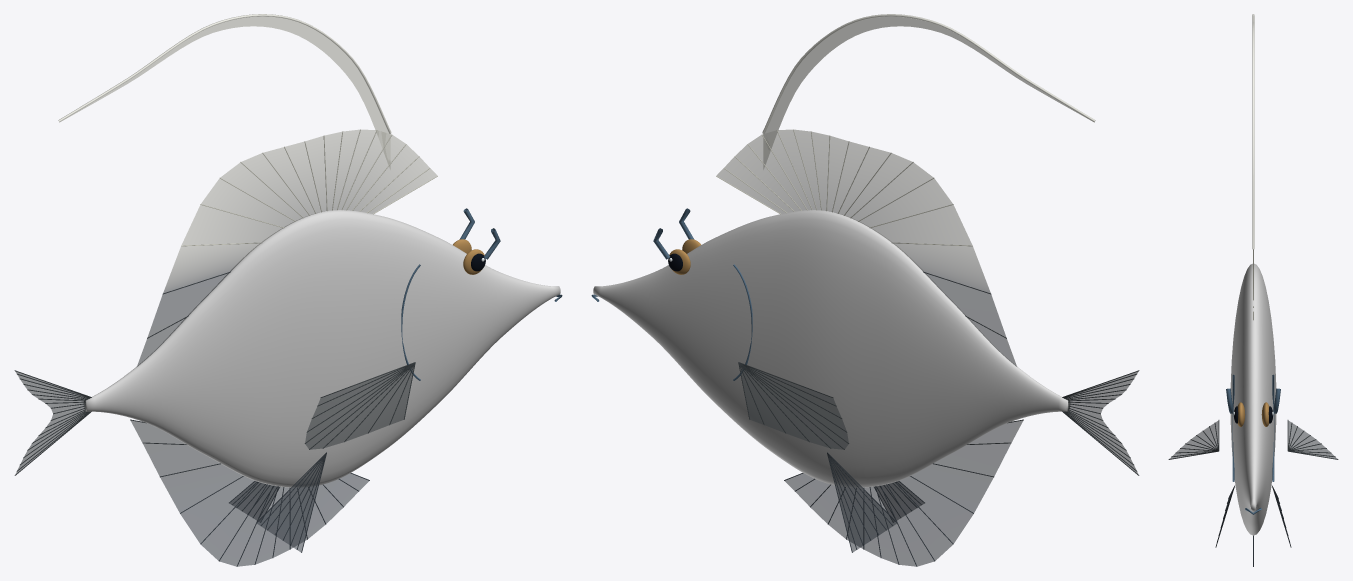
File: moorish-idol.glb
3 views of the same model, side by side, from view 1: azimuth 30°, elevation 25°; view 2: azimuth 150°, elevation 25°; view 3: azimuth 270°, elevation 25° (orthographic). The views are drawn at different scales.
Parts seen in each view (by area): view 1: Zanclus cornutus sculpted body, dorsal sail, anal sail, pectoral -1, narrow trailing dorsal pennant, pelvic -1, caudal fan, pennant leading edge, pelvic 1; view 2: Zanclus cornutus sculpted body, dorsal sail, anal sail, pectoral 1, narrow trailing dorsal pennant, pelvic 1, caudal fan, pennant leading edge, pelvic -1; view 3: Zanclus cornutus sculpted body, pectoral 1, pectoral -1, pennant leading edge.
Boxes of the visible parts, <box> form: Zanclus cornutus sculpted body: <box>83,210,560,487</box>; dorsal sail: <box>137,129,436,366</box>; anal sail: <box>130,420,368,566</box>; pectoral -1: <box>305,367,413,449</box>; narrow trailing dorsal pennant: <box>59,16,390,169</box>; pelvic -1: <box>257,460,323,551</box>; caudal fan: <box>15,371,88,474</box>; pennant leading edge: <box>58,14,391,133</box>; pelvic 1: <box>230,481,276,519</box>; Zanclus cornutus sculpted body: <box>593,210,1070,487</box>; dorsal sail: <box>717,129,1016,366</box>; anal sail: <box>785,420,1023,566</box>; pectoral 1: <box>740,367,848,449</box>; narrow trailing dorsal pennant: <box>763,16,1094,169</box>; pelvic 1: <box>830,460,896,551</box>; caudal fan: <box>1065,371,1138,474</box>; pennant leading edge: <box>762,14,1095,133</box>; pelvic -1: <box>877,481,923,519</box>; Zanclus cornutus sculpted body: <box>1230,263,1276,535</box>; pectoral 1: <box>1288,420,1337,458</box>; pectoral -1: <box>1169,420,1218,458</box>; pennant leading edge: <box>1252,14,1254,249</box>.
Bounding box in the file's own units: 1.85 × 1.78 × 0.5417.
